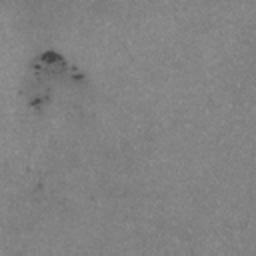Iron sheet ash: (32, 49, 67, 77), (29, 86, 52, 106), (70, 67, 86, 82)
